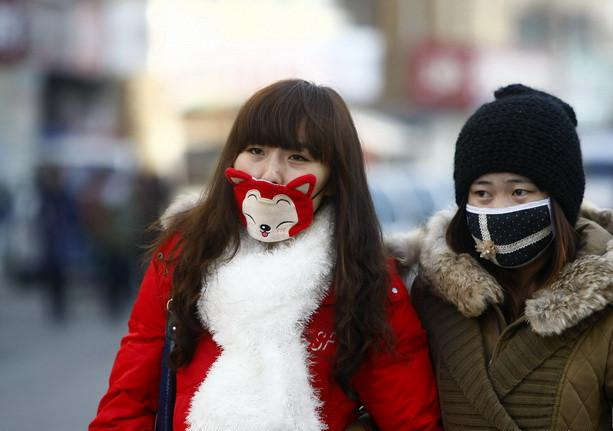OK: (461, 176, 553, 268)
WRONG: (229, 135, 331, 232)
